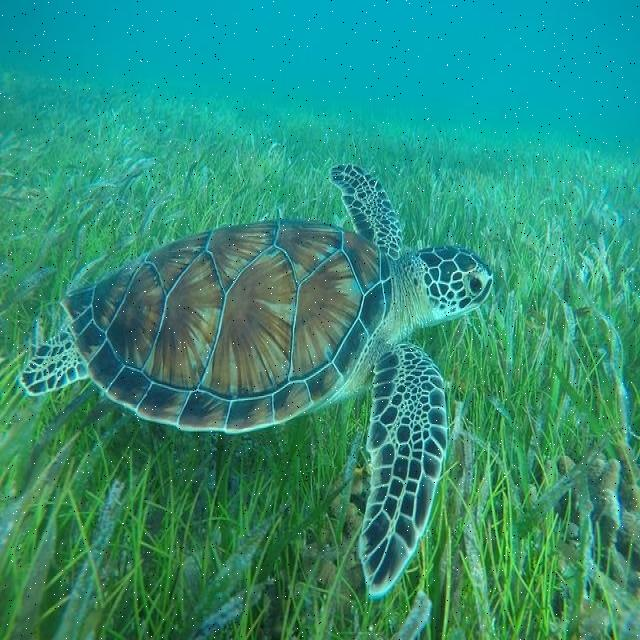fish: (16, 162, 496, 599)
